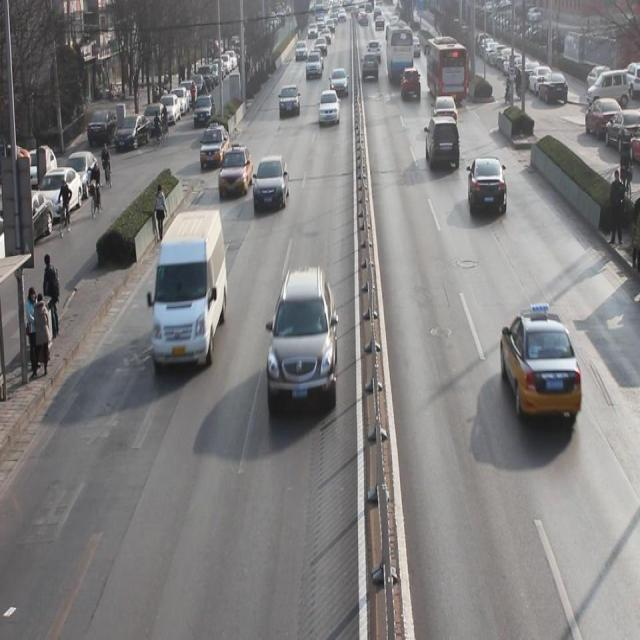car: (268, 267, 338, 413), (498, 306, 583, 424), (466, 154, 508, 218), (252, 156, 291, 213), (424, 115, 462, 171), (218, 146, 252, 194), (199, 123, 231, 165), (432, 92, 459, 132), (278, 83, 302, 120), (318, 91, 341, 126), (400, 64, 422, 100), (330, 69, 350, 96), (361, 53, 380, 81), (306, 50, 324, 78)
truck: (150, 212, 227, 372)
van: (426, 37, 467, 106)
